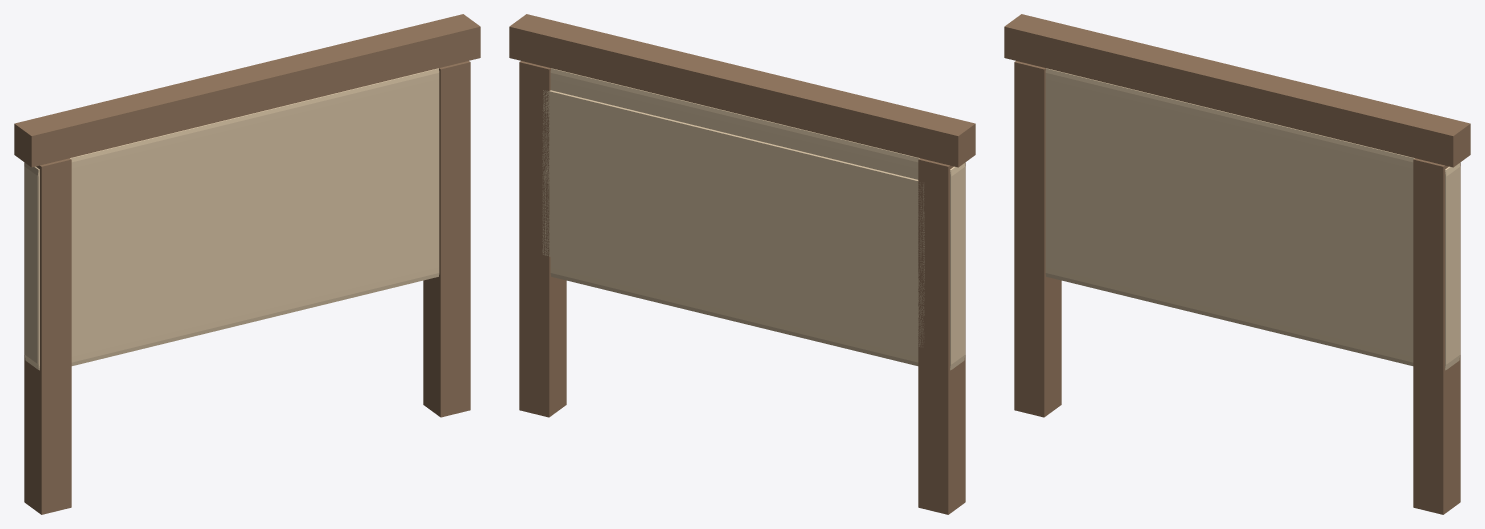
File: willkommen_schild_lod0.fbx
The picture shows the model from 3 angles, left to right: view 1: azimuth 30°, elevation 25°; view 2: azimuth 150°, elevation 25°; view 3: azimuth 330°, elevation 25°; orthographic projection.
Visible parts, largest first — view 1: Cube.003, Cube.002, Cube, Cube.001; view 2: Cube.004, Cube.002, Cube.003, Cube, Cube.001; view 3: Cube.003, Cube.002, Cube.001, Cube.
Boxes of the visible parts, x1,y1,x2,y2 form: Cube.003: [24, 68, 439, 370]; Cube.002: [14, 14, 480, 167]; Cube: [24, 158, 71, 514]; Cube.001: [423, 61, 470, 417]; Cube.004: [542, 90, 924, 346]; Cube.002: [509, 14, 975, 167]; Cube.003: [550, 68, 965, 370]; Cube: [918, 158, 965, 514]; Cube.001: [519, 61, 566, 417]; Cube.003: [1045, 68, 1460, 370]; Cube.002: [1004, 14, 1470, 167]; Cube.001: [1413, 158, 1460, 514]; Cube: [1014, 61, 1061, 417].
Size of the model in its own units: 2.7 by 2.19 by 0.18.
